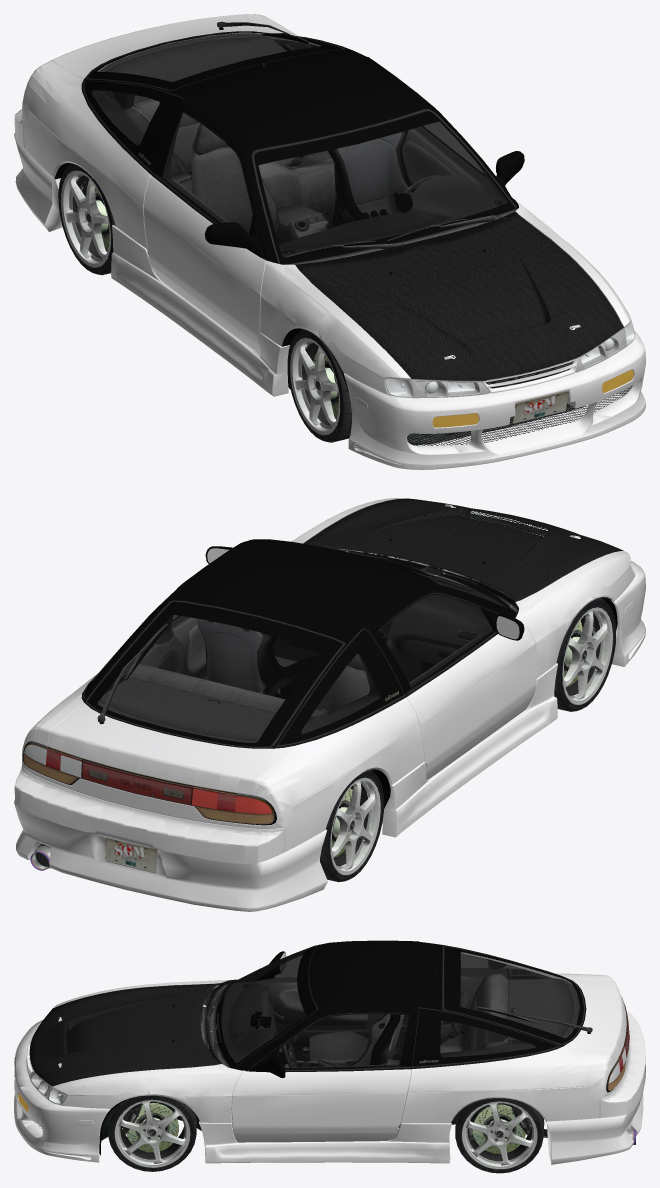
The model's file is carro-silvia.glb.
3 renders of one model, top to bottom at view 1: azimuth 30°, elevation 25°; view 2: azimuth 150°, elevation 25°; view 3: azimuth 270°, elevation 25°, orthographic. The views are drawn at different scales.
Visible parts, largest first — view 1: body, wheel_FR, wheel_RR; view 2: body, wheel_FR, wheel_RR; view 3: body, wheel_FL, wheel_RL.
Part boxes in pixels (x1,y1,x2,y2): body: [14, 14, 645, 469]; wheel_FR: [287, 329, 351, 442]; wheel_RR: [58, 163, 115, 275]; body: [14, 498, 645, 911]; wheel_FR: [554, 598, 616, 711]; wheel_RR: [320, 770, 384, 882]; body: [14, 940, 645, 1164]; wheel_FL: [108, 1095, 196, 1171]; wheel_RL: [455, 1098, 544, 1173].
Size of the model in its own units: 2.14 by 1.35 by 4.89.
29 materials, 22 textured.
